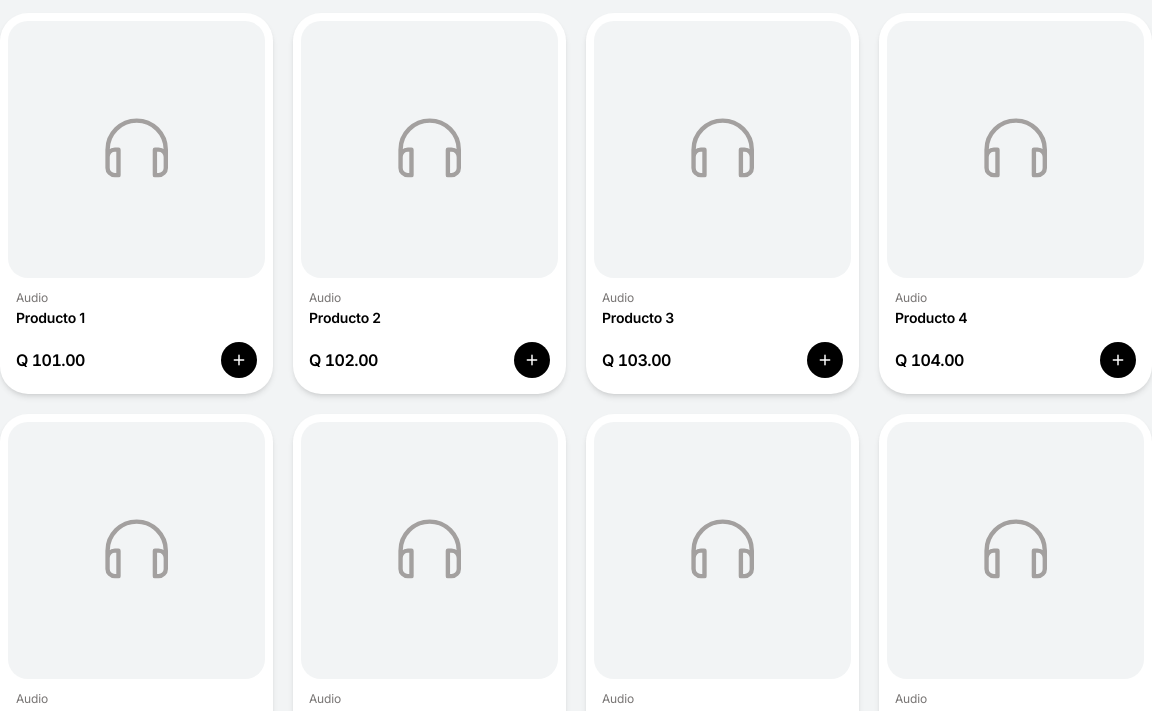
Catálogo › el botón + agrega al carrito y confirma con un check
The width and height of the screenshot is (1152, 711).
(page scrolled)
Click the button named "Agregar Producto 1 al carrito" at point(239, 360), box [221,342,257,378]
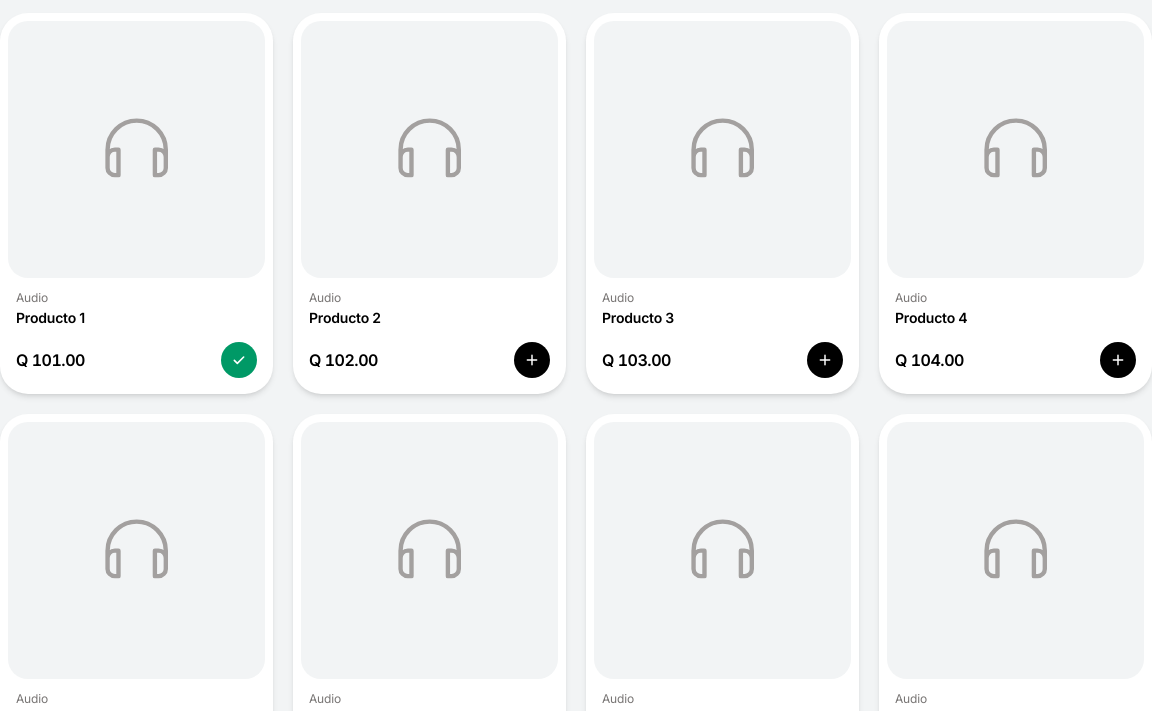
Now the button named "Producto 1 agregado al carrito" is shown, box [221,342,257,378]
